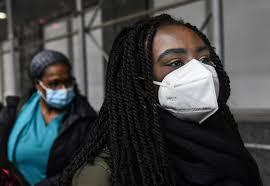Wearing Mask: (117, 26, 233, 125), (27, 47, 80, 112)
